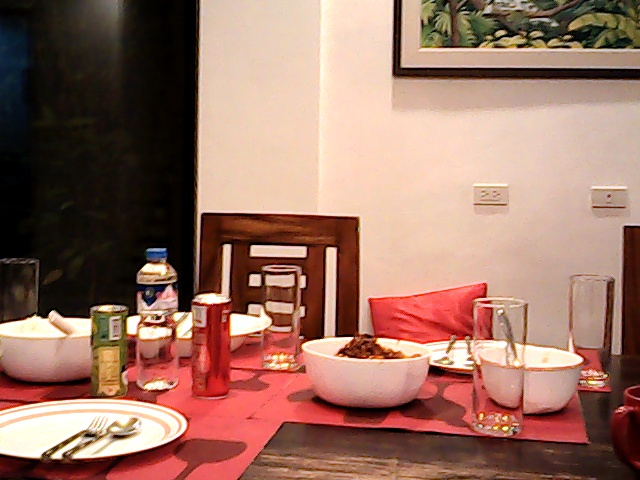Cola: (187, 292, 232, 398)
Pine Juice: (84, 305, 126, 409)
Summit Water: (131, 242, 180, 392)
